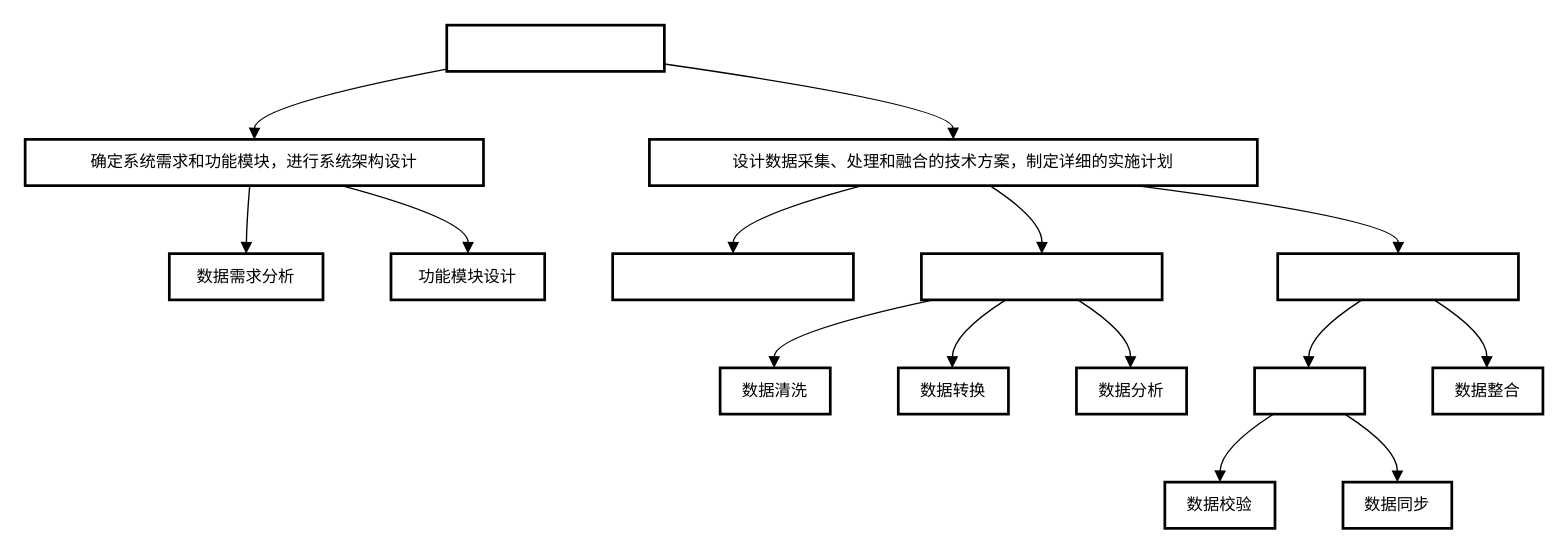
This 1567x552 diagram has some shape labels left out. The box of each missing label's shape, as (x1, y1, x2, y2) in pixels:
数据处理技术方案设计: (919, 252, 1163, 301)
数据融合技术方案设计: (1276, 252, 1519, 301)
数据采集技术方案设计: (611, 252, 854, 301)
数据集成: (1253, 366, 1365, 415)
需求分析与系统设计: (445, 23, 665, 72)
